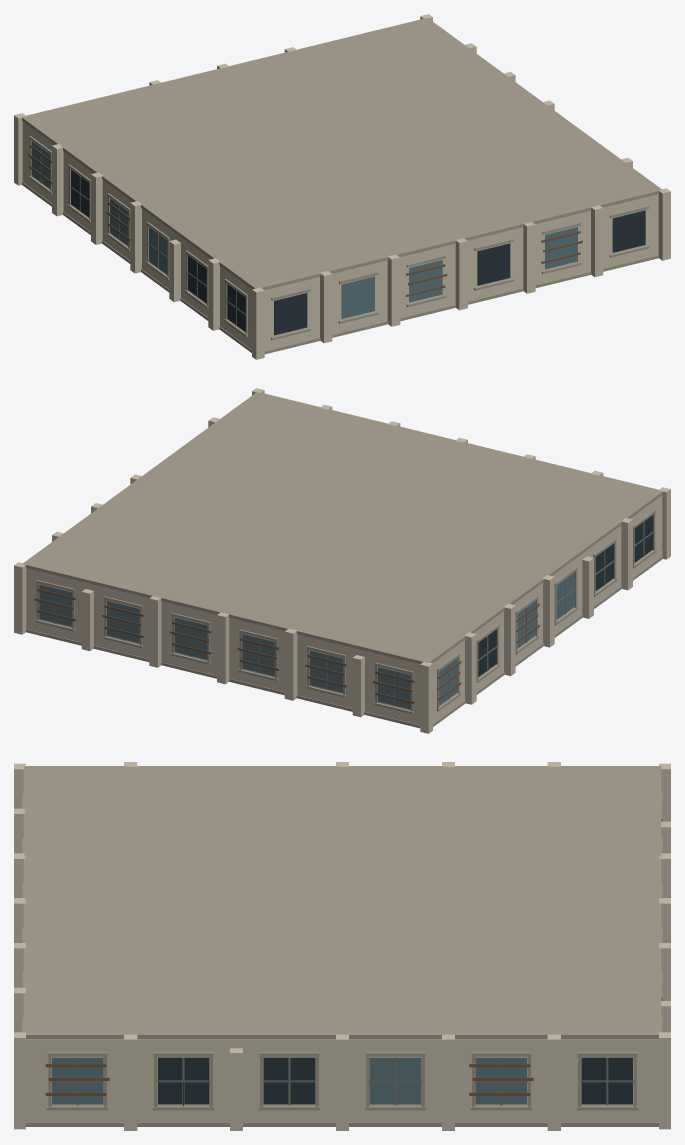
The model's file is tw_stone_24_floor_b.glb.
3 views of the same model, one above another, from view 1: azimuth 30°, elevation 25°; view 2: azimuth 150°, elevation 25°; view 3: azimuth 270°, elevation 25° (orthographic). The views are drawn at different scales.
Parts seen in each view (by area): view 1: tw_stone_24_floor_b; view 2: tw_stone_24_floor_b; view 3: tw_stone_24_floor_b.
Part boxes in pixels (left/top/right/bottom): tw_stone_24_floor_b: left=14, top=14, right=670, bottom=359; tw_stone_24_floor_b: left=14, top=388, right=670, bottom=733; tw_stone_24_floor_b: left=14, top=762, right=670, bottom=1130.
Size of the model in its own units: 24.99 by 3.8 by 24.8.
3 materials, 3 textured.
